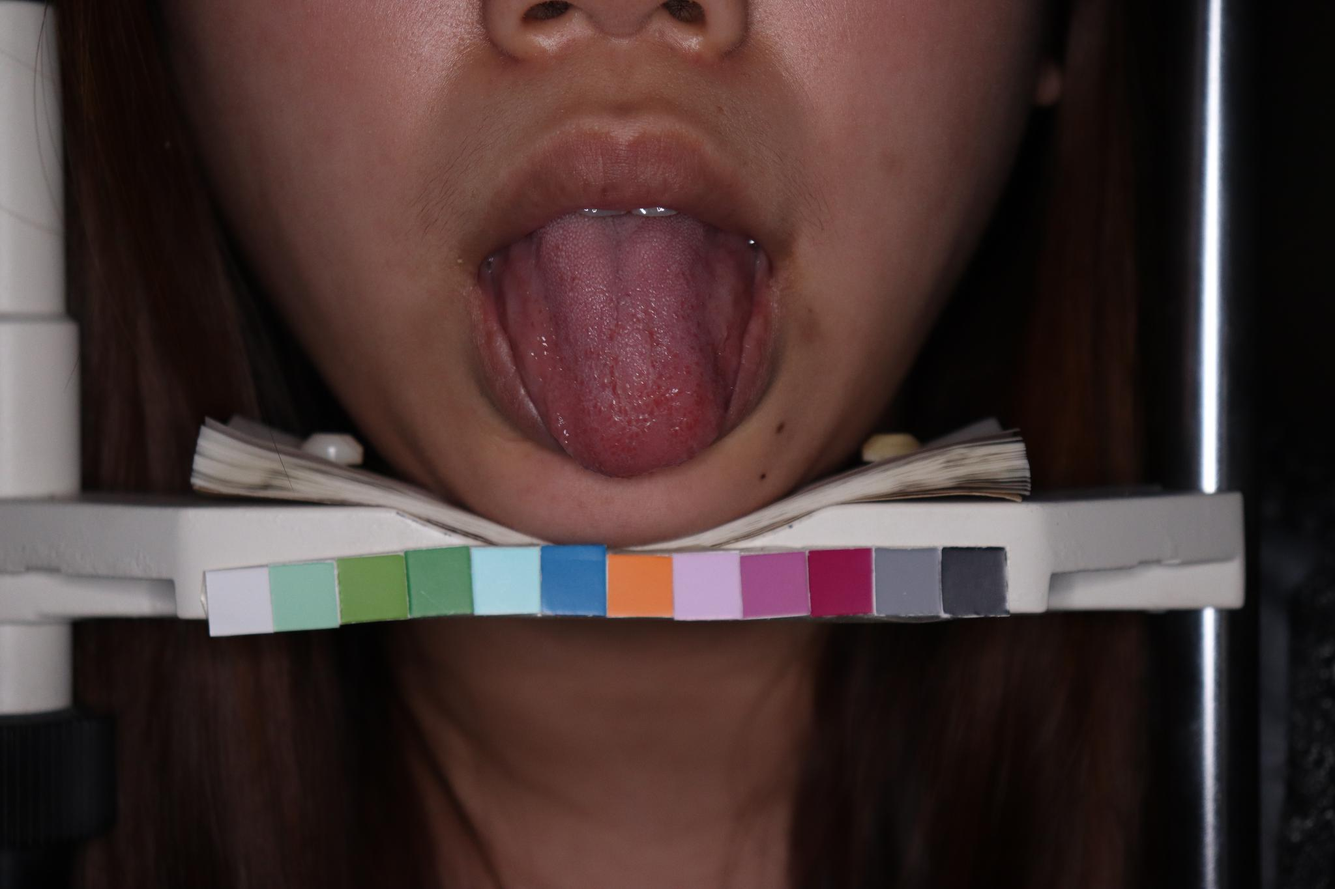baitaishe: (491, 209, 755, 478)
gandanao: (496, 229, 576, 395), (684, 225, 752, 401)
hongdianshe: (692, 358, 701, 369), (527, 318, 536, 327), (536, 307, 542, 315)
